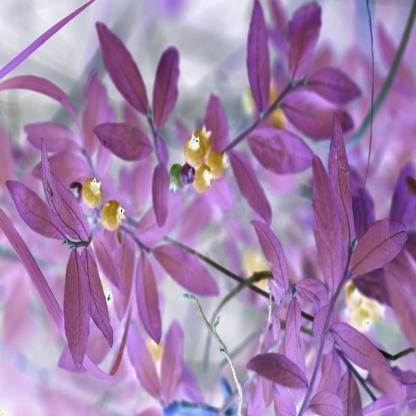Blueberry leaf: (318, 308, 406, 411), (23, 141, 97, 254), (49, 245, 92, 392), (301, 154, 344, 298), (275, 80, 366, 147), (93, 24, 152, 118), (342, 221, 408, 293), (153, 239, 222, 307), (155, 28, 200, 131), (125, 255, 164, 360), (245, 6, 278, 112), (249, 216, 290, 300), (86, 120, 152, 170), (284, 294, 312, 390), (153, 146, 177, 250)
